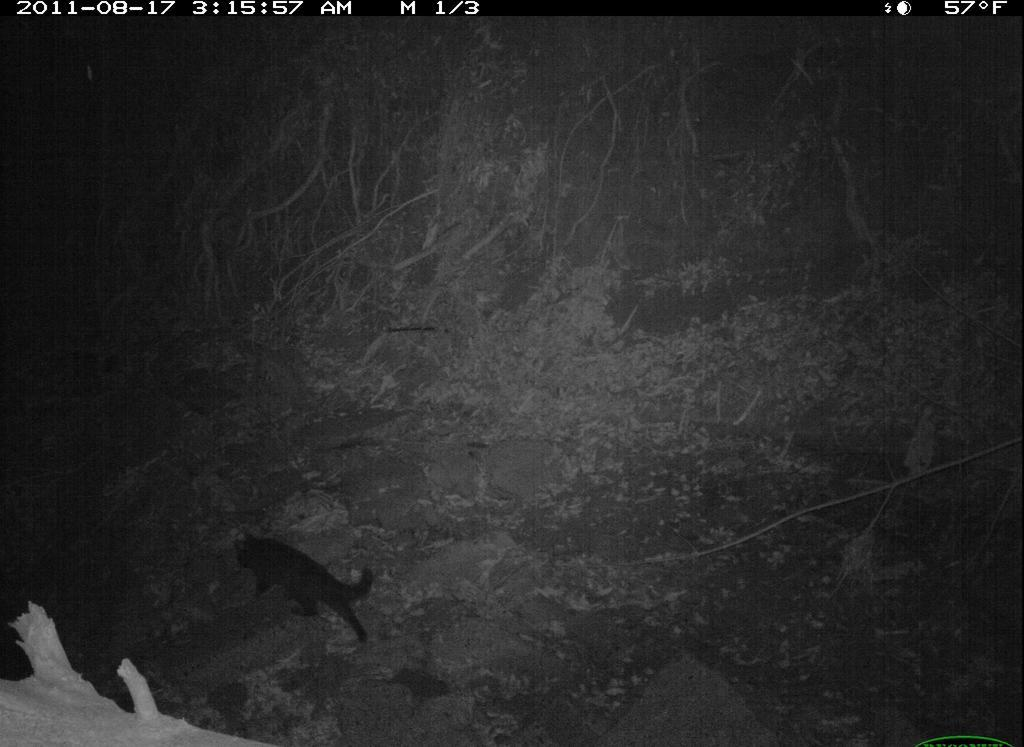cat: (227, 525, 393, 651)
